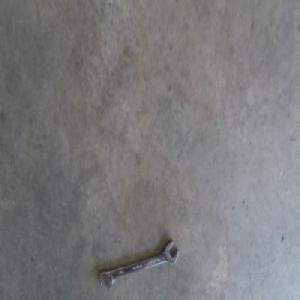Wrench: (99, 239, 178, 292)
